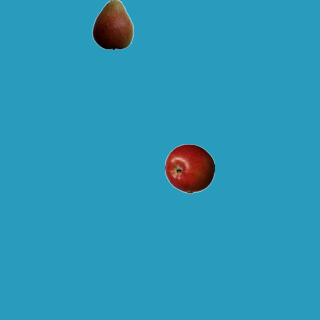Apple Braeburn: (164, 143, 214, 193)
Pear Forelle: (87, 0, 137, 49)
